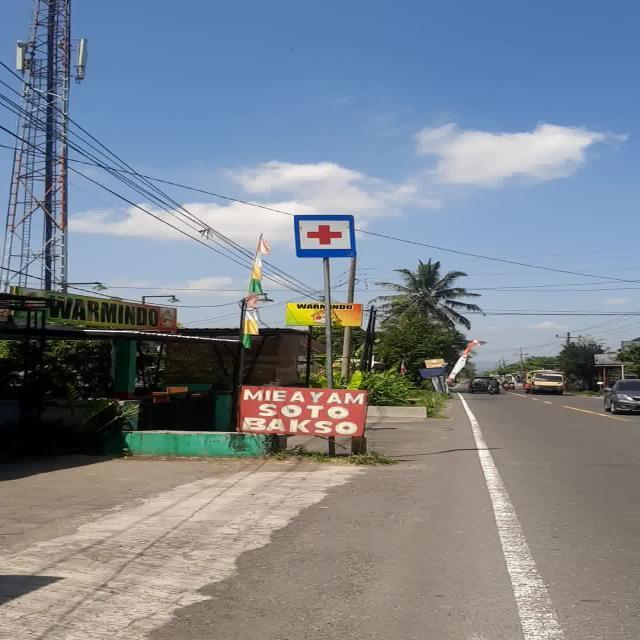Balai Pertolongan Pertama: (294, 215, 356, 258)
